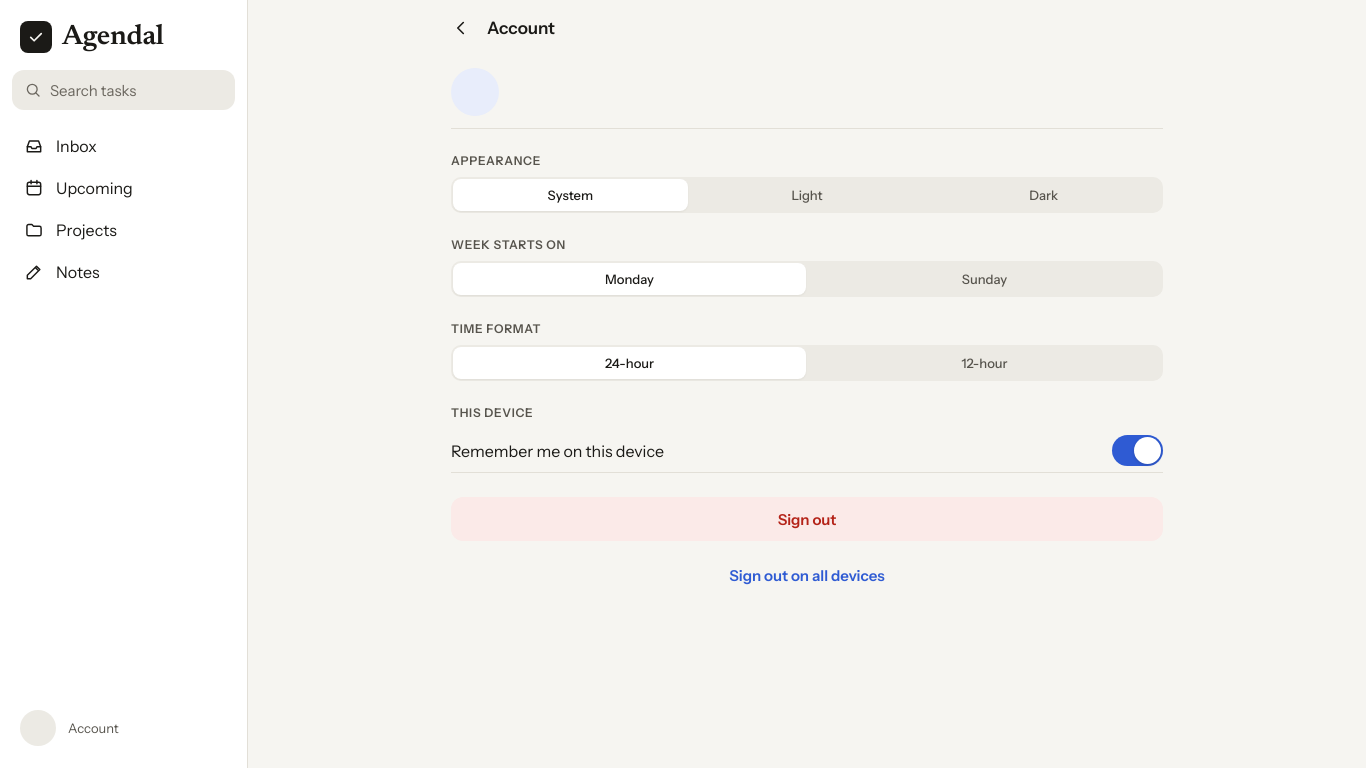
Account settings (AP-3, AP-5) › a session check that answers after a change doesn't undo it
Click the radio button labelled "Dark" at [1044, 195], box [926,179,1161,211]
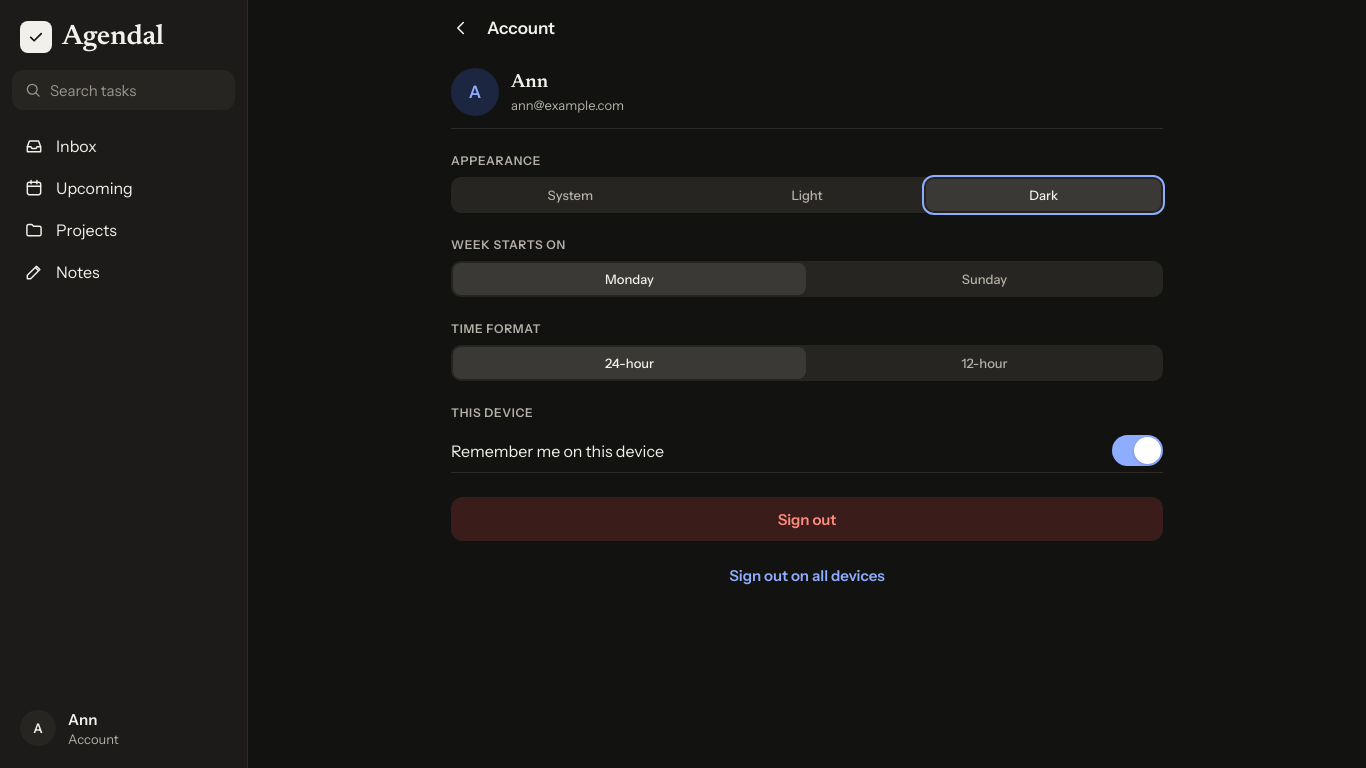
Now the text "ann@example.com" is shown, box [511,96,624,114]
